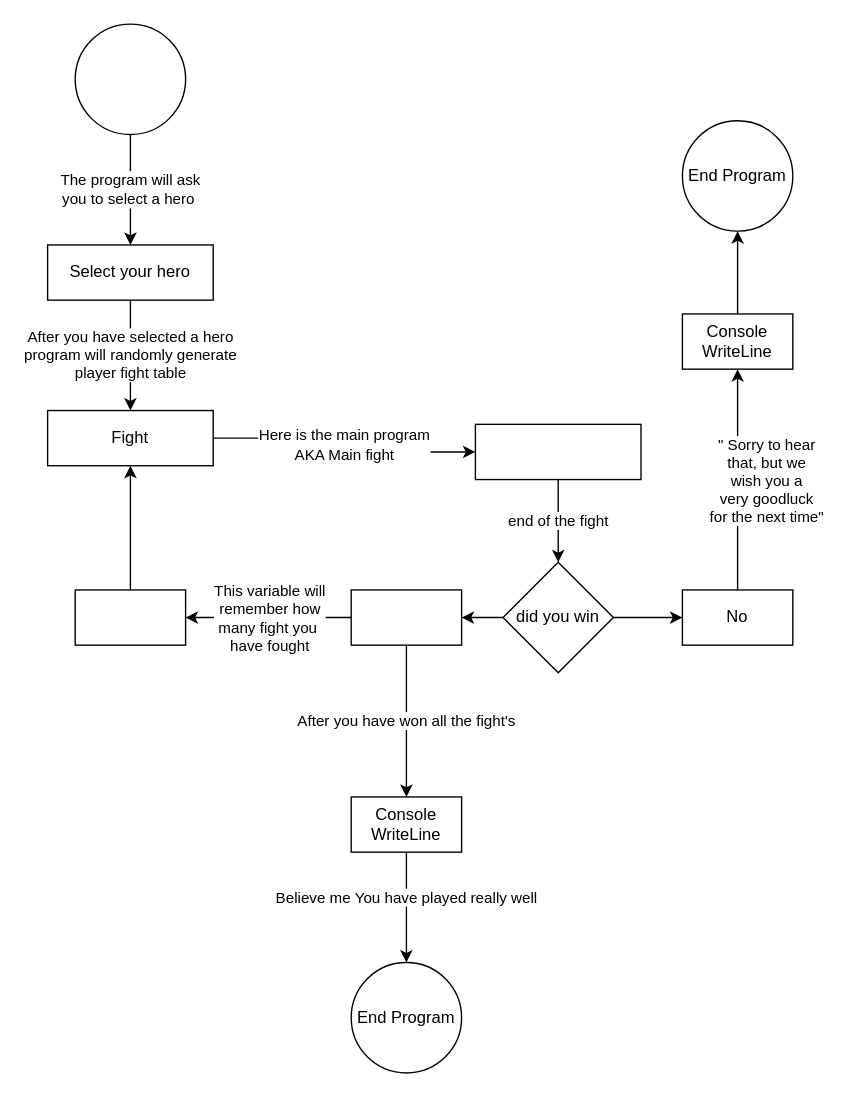
The diagram is 846 pixels wide and 1097 high, and some of its shapes have lost their labels. Here are the shapes that lost their labels. From the top down, the centre of each, then its label:
At (130,79): "Start Program".
At (557,451): "Attack/defence".
At (130,617): "Fight played".
At (406,617): "Yes".
